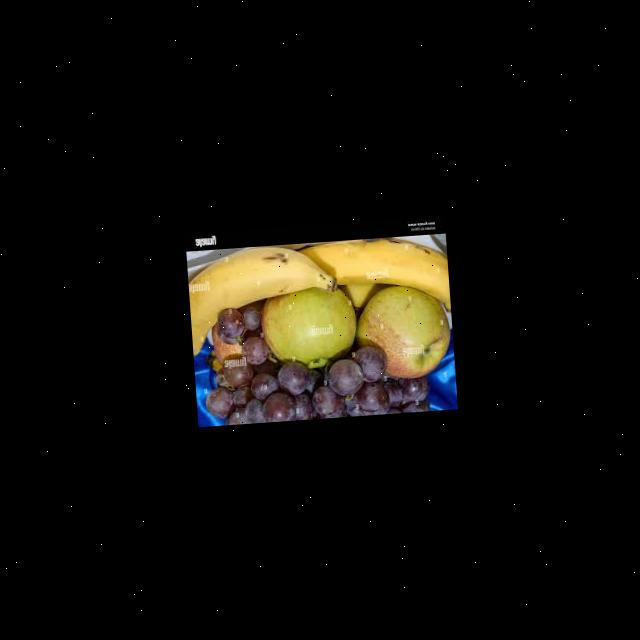grape: (196, 289, 428, 425)
